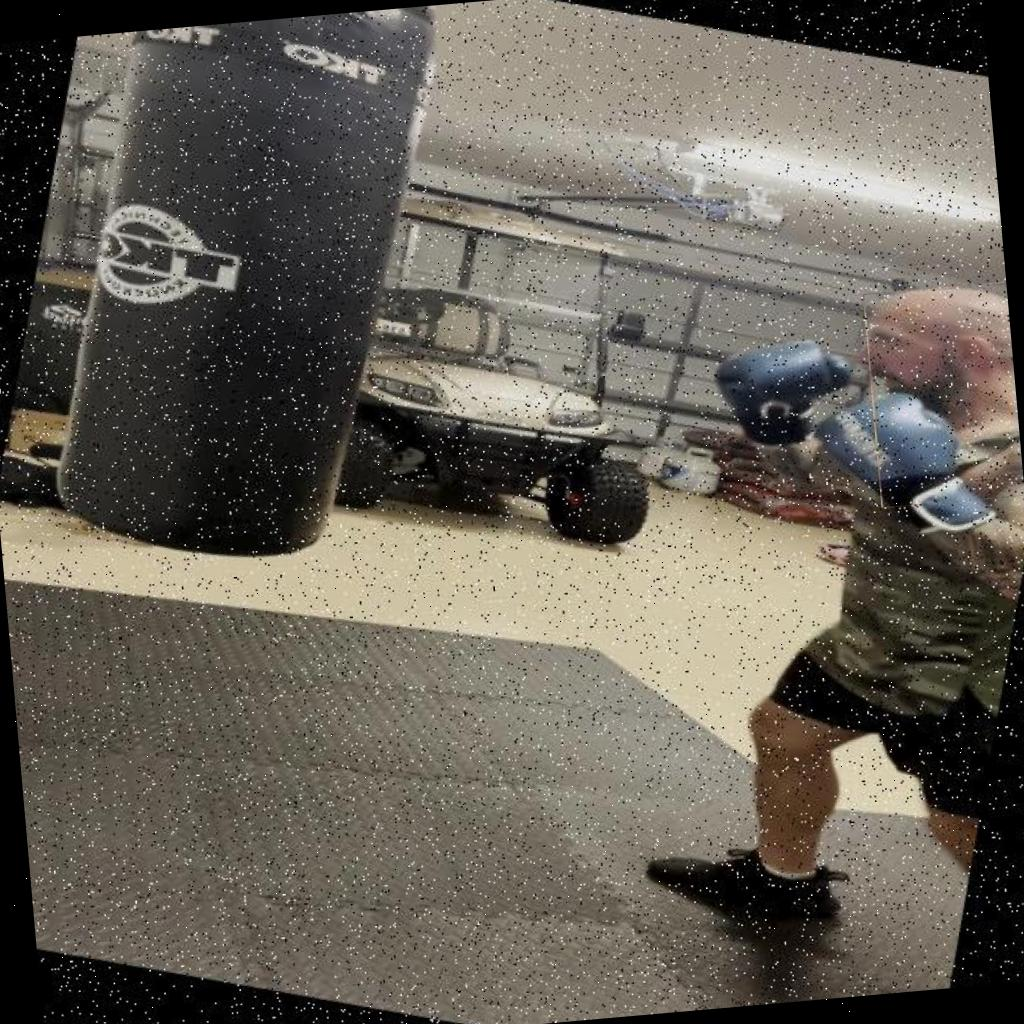bag: (867, 288, 1023, 497)
